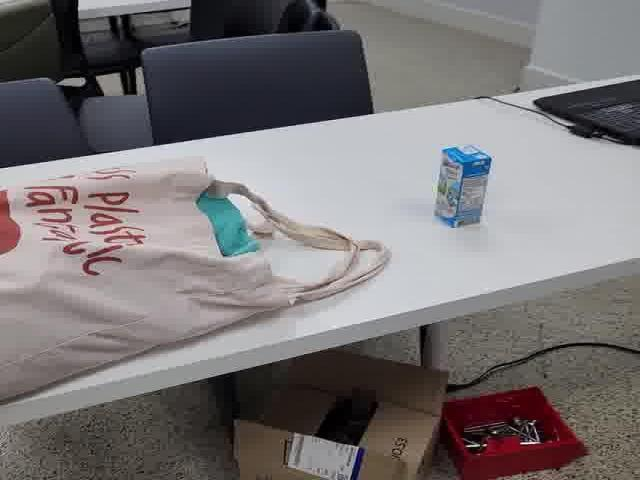drink_box: (428, 138, 499, 242)
